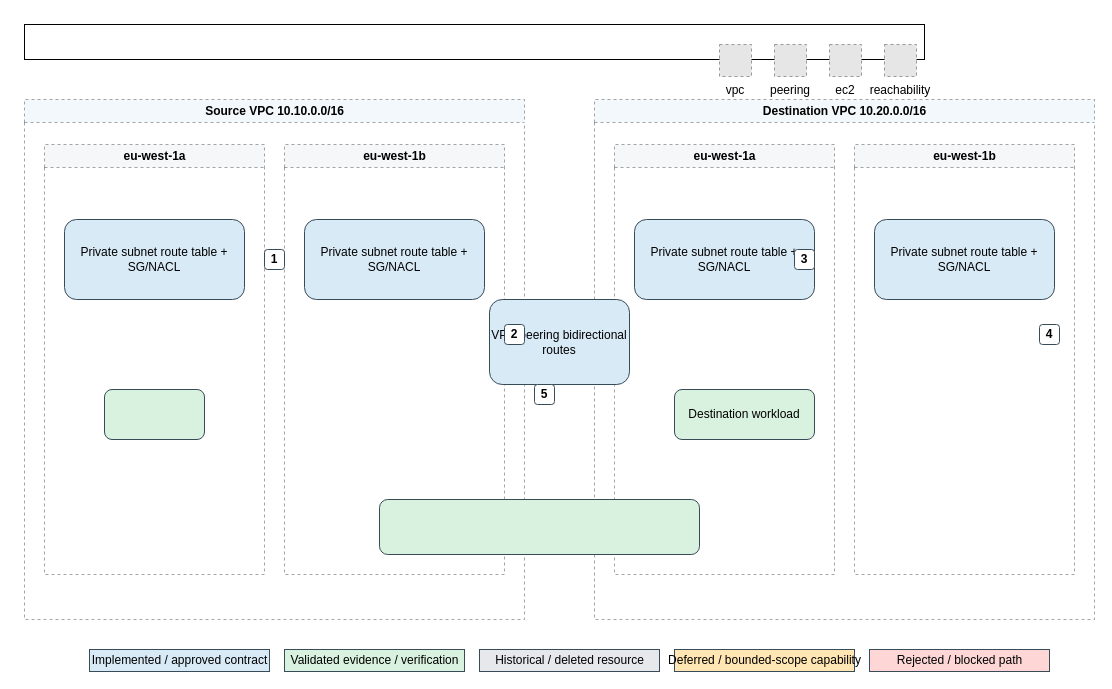
The diagram is 1112 pixels wide and 689 high, and some of its shapes have lost their labels. Grey dashed boxes stand in for pictures. Each missing label, with the centre of its shape:
AWS two-VPC network topology and peering: (474,42)
Source workload: (154,414)
TCP/443 healthy path: (539,526)
